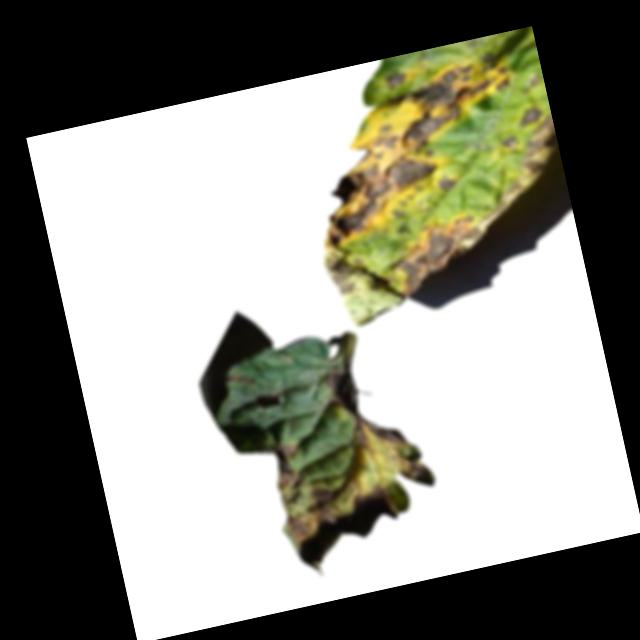Early_blight: (286, 39, 586, 330), (249, 355, 443, 582), (227, 368, 255, 387)
